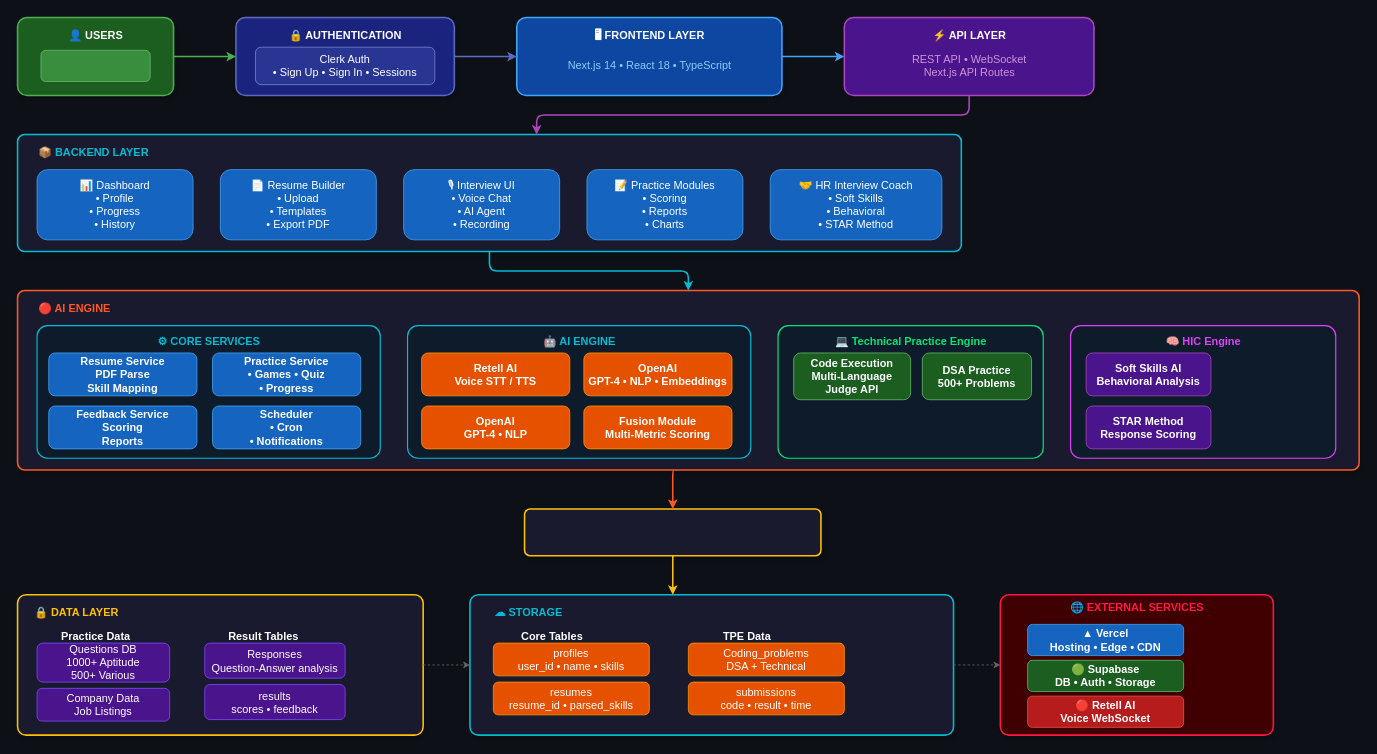
Some shapes in this 1377 by 754 pixel diagram are drawn without their labels. The centre of each missing label's shape, as x and y in pixels:
"Candidates" goes at (x=95, y=66).
"🗄 DATA LAYER — Supabase PostgreSQL" goes at (x=673, y=533).
